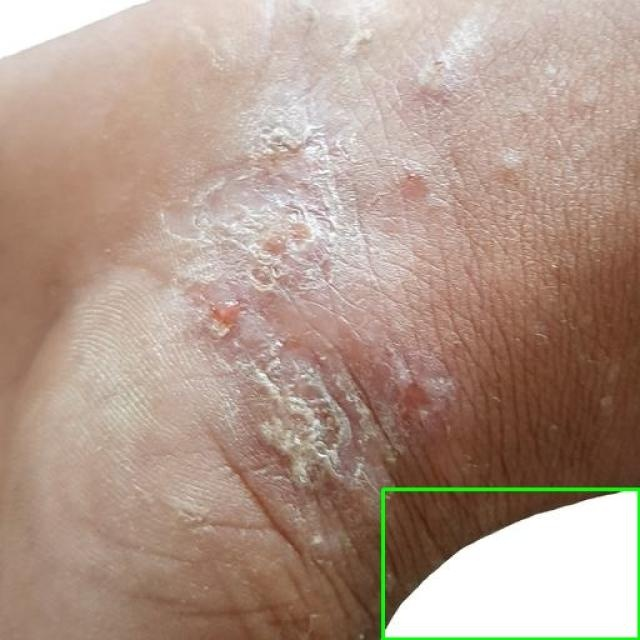Scabies: (382, 489, 639, 639)
